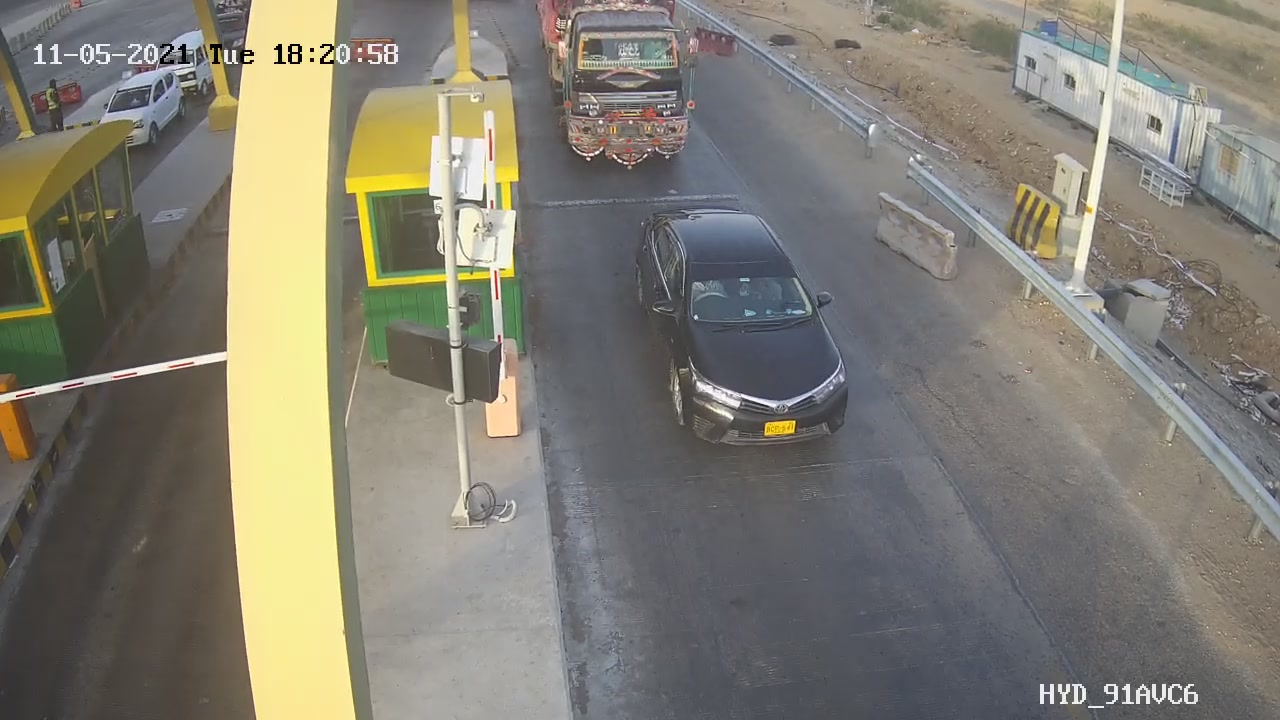F1: (633, 197, 863, 457)
